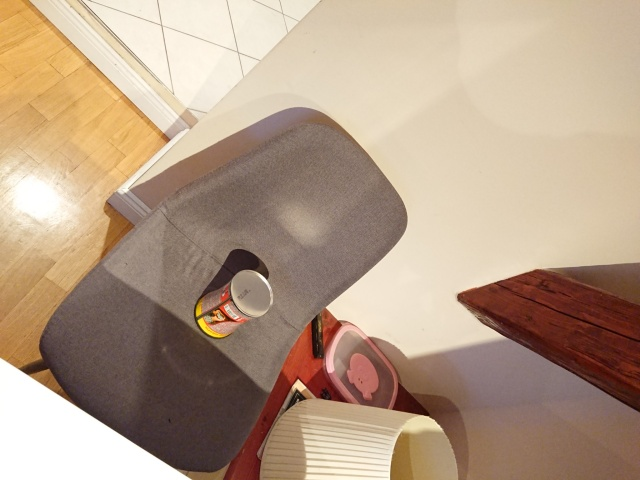Nescafe Classic 225g: (191, 268, 276, 342)
